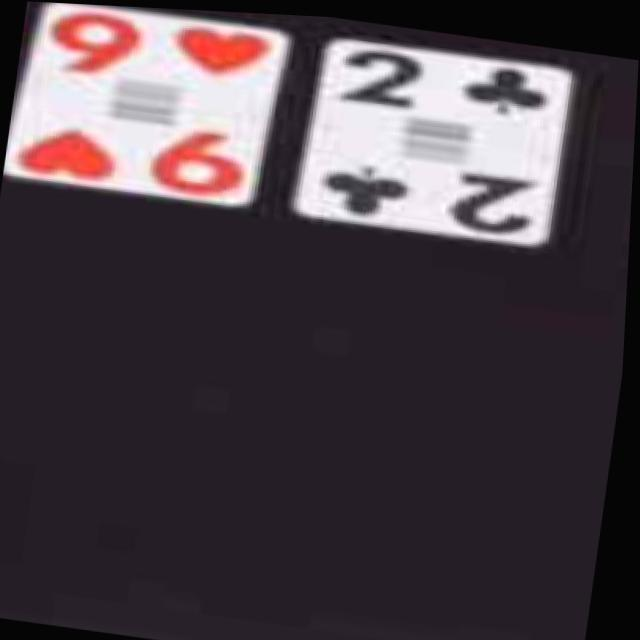Card-2: (294, 32, 572, 241)
Card-9: (8, 2, 289, 207)
